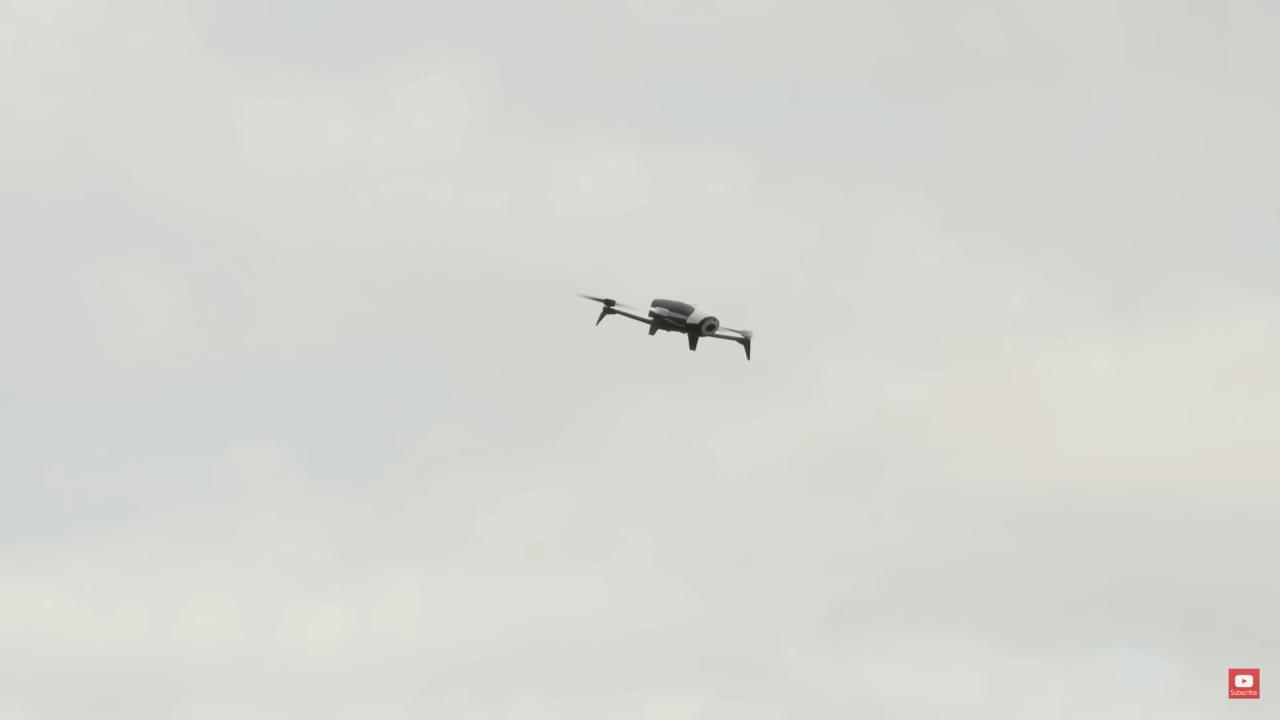Drone: (574, 276, 764, 368)
